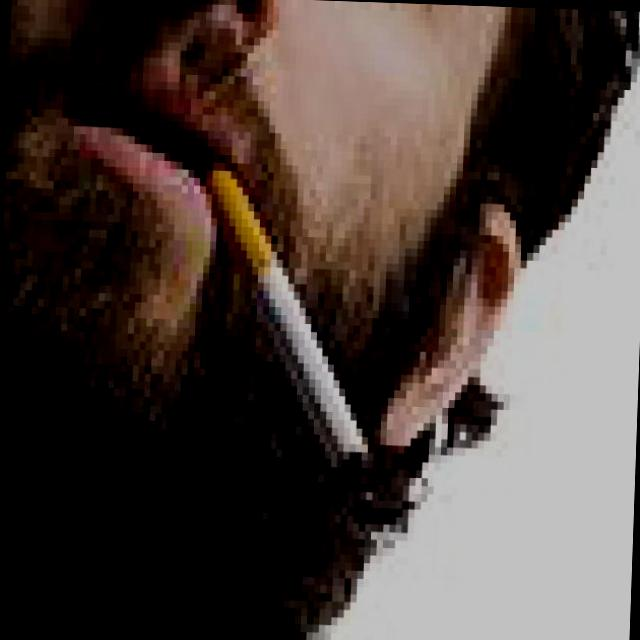smoke: (201, 146, 384, 492)
